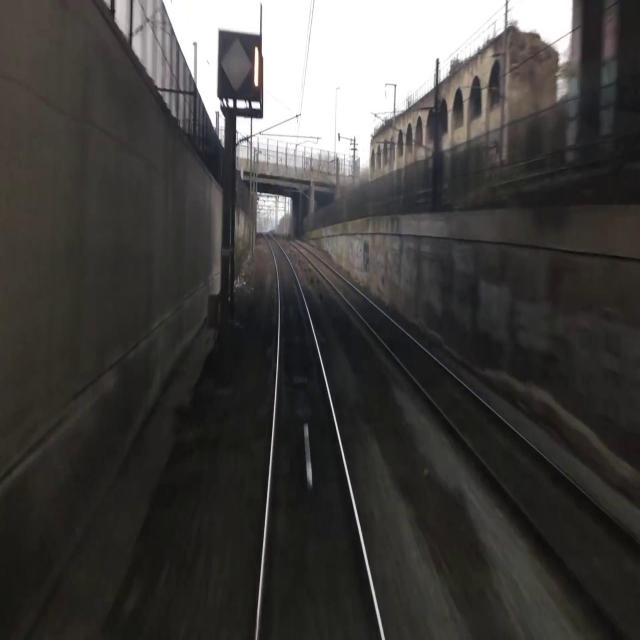rail-track: (289, 238, 640, 639), (258, 235, 380, 639)
